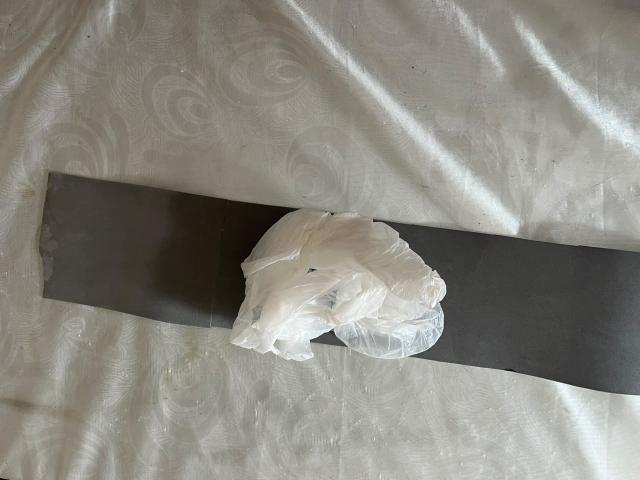LDPE: (192, 156, 501, 449)
